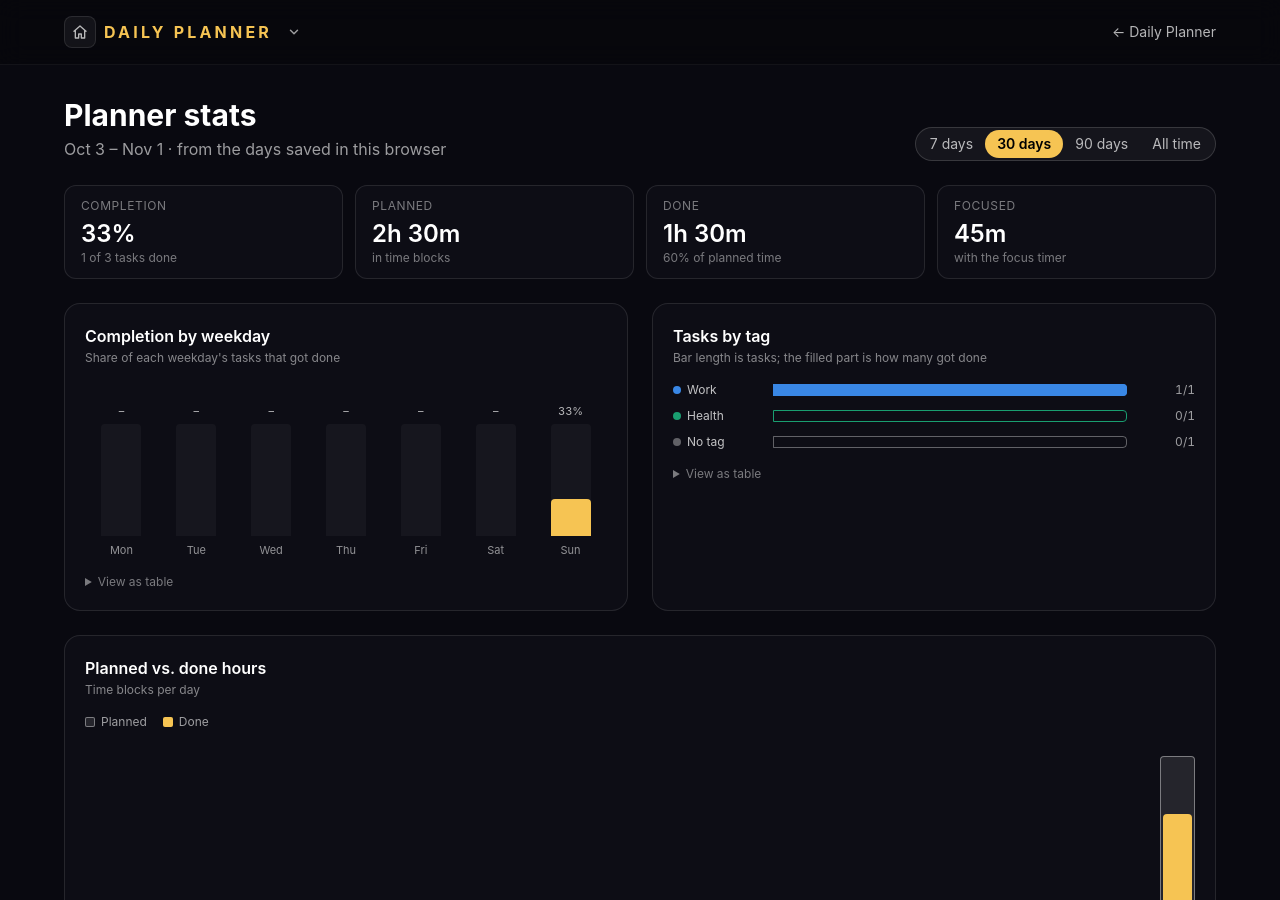
PlannerStatsPage › summarises the days in range and switches ranges
Expected: the text "1 of 3 tasks done" is shown, [81, 250, 177, 265]
Expected: the text "Work" is shown, [673, 382, 717, 397]
Click the button "All time".
click(1177, 144)  # box [1140, 130, 1213, 158]
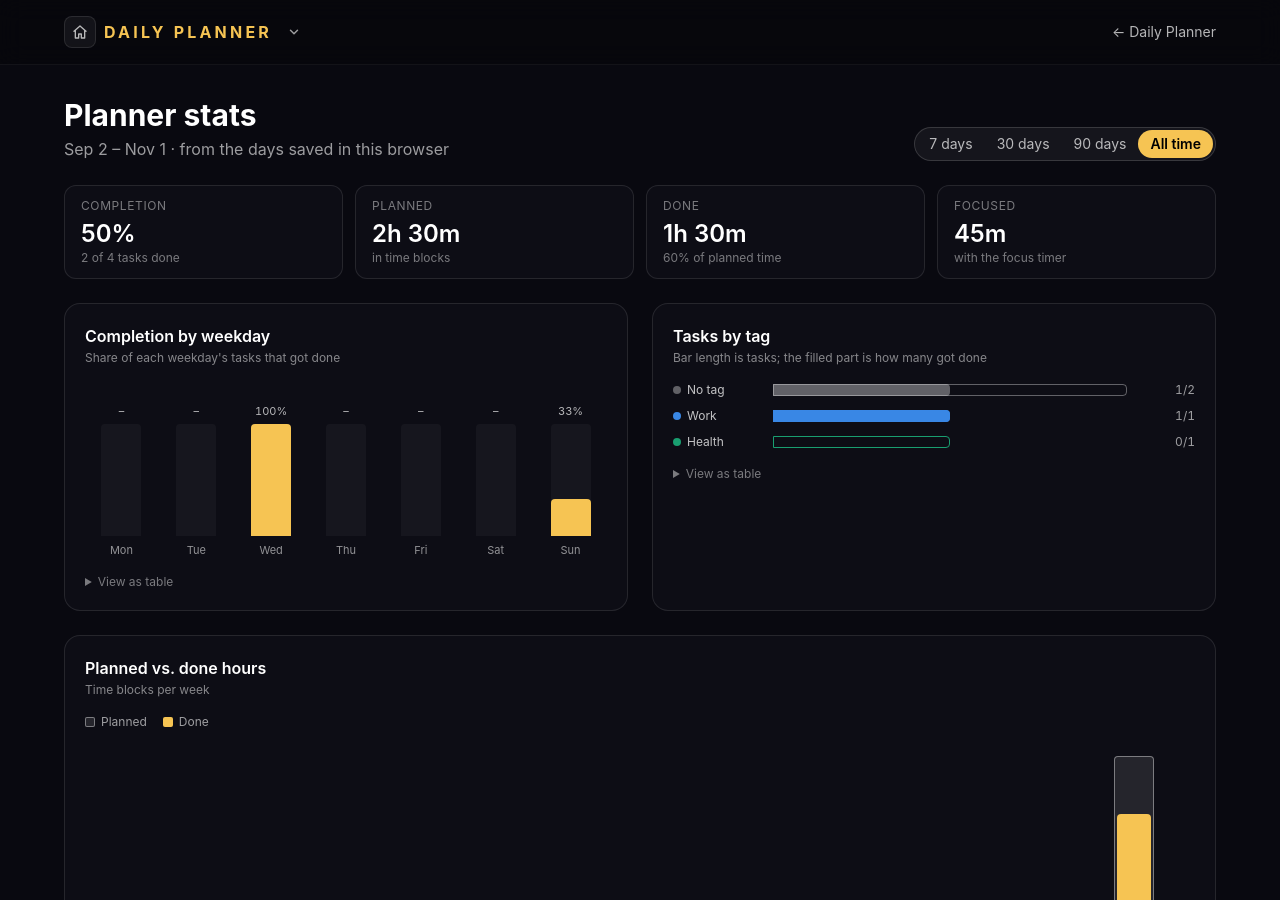
Expected: the text "2 of 4 tasks done" is shown, [81, 250, 180, 265]
Click the button "7 days".
click(951, 144)  # box [917, 130, 985, 158]
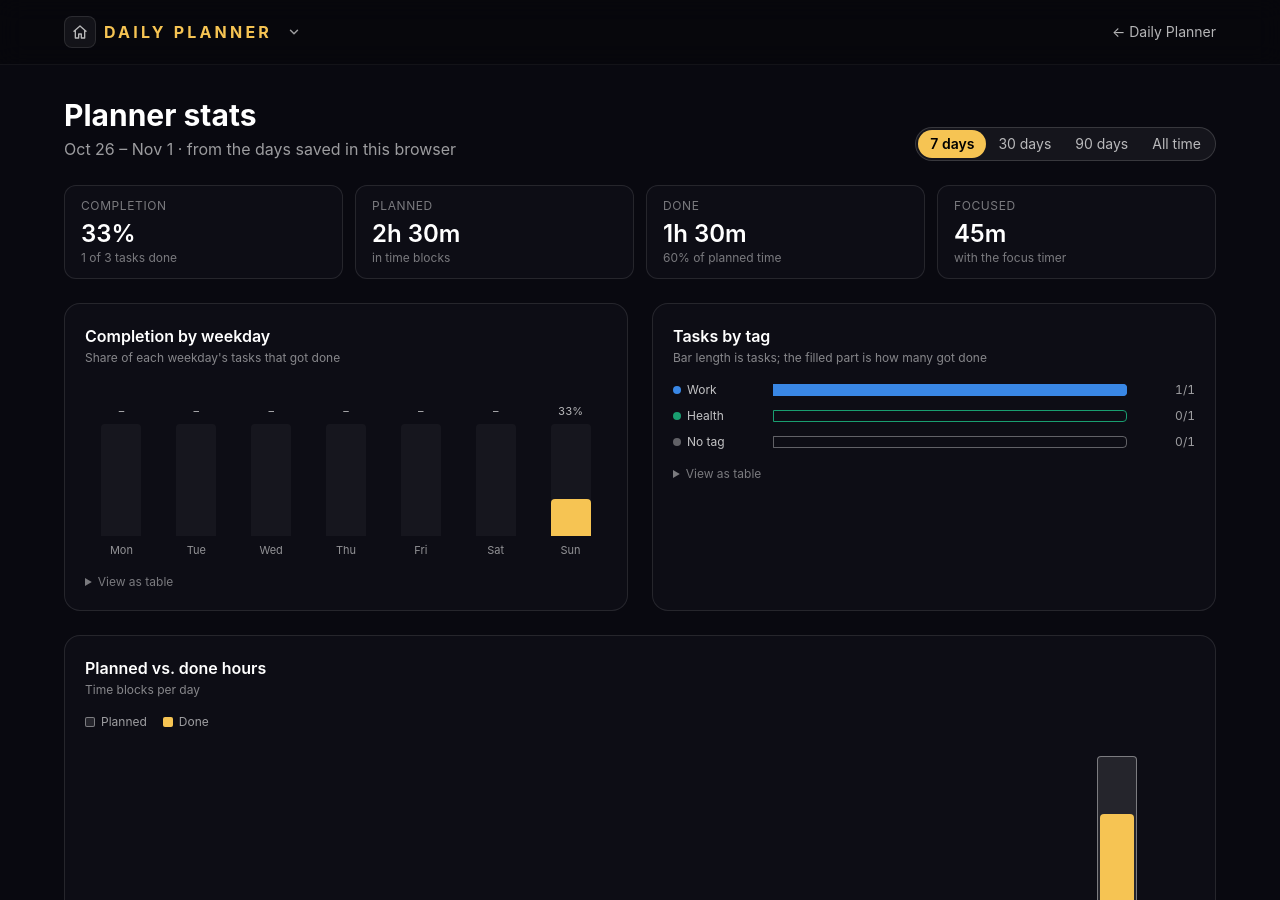
Expected: the text "1 of 3 tasks done" is shown, [81, 250, 177, 265]
Click the button "90 days".
click(1102, 144)  # box [1063, 130, 1140, 158]
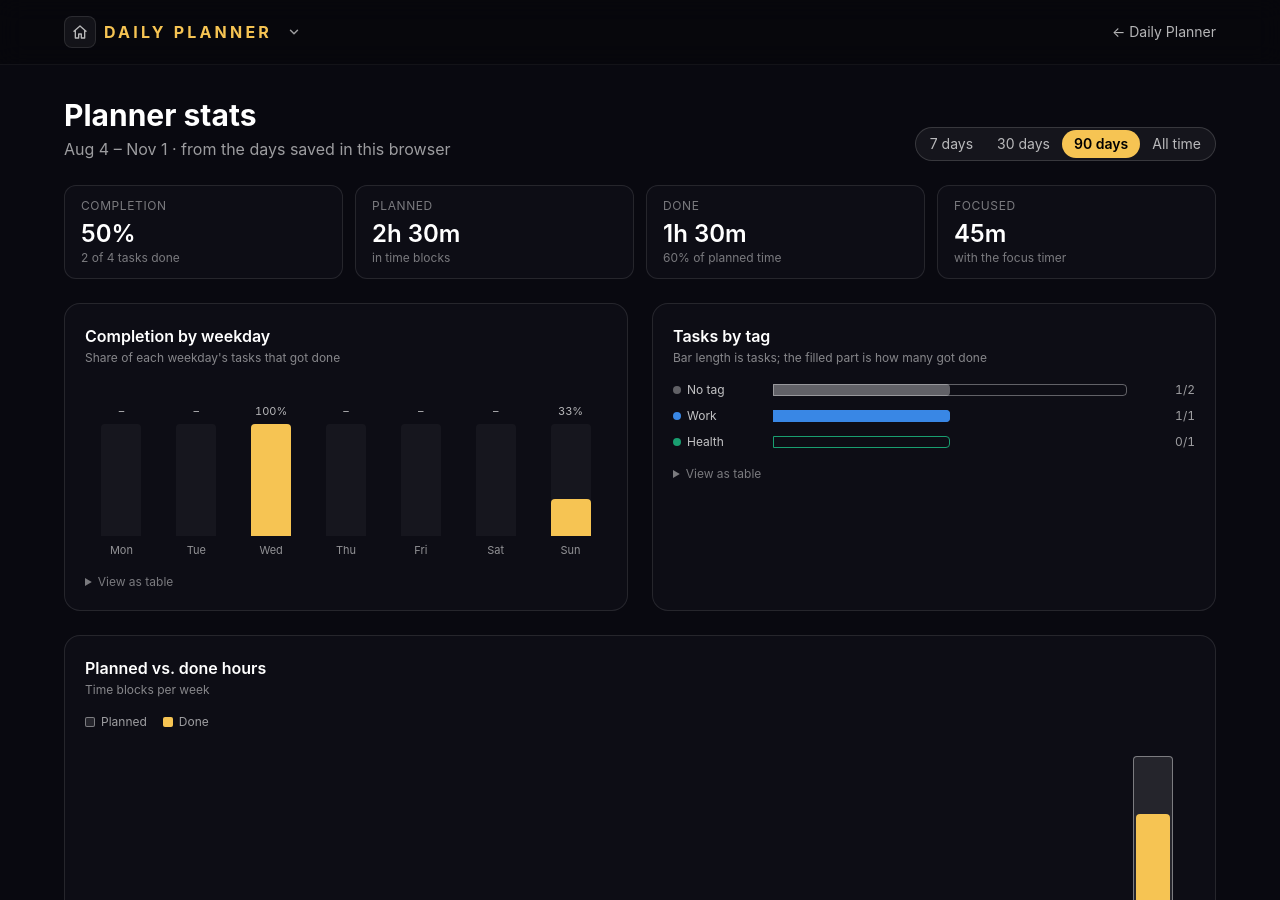
Expected: the text "2 of 4 tasks done" is shown, [81, 250, 180, 265]
